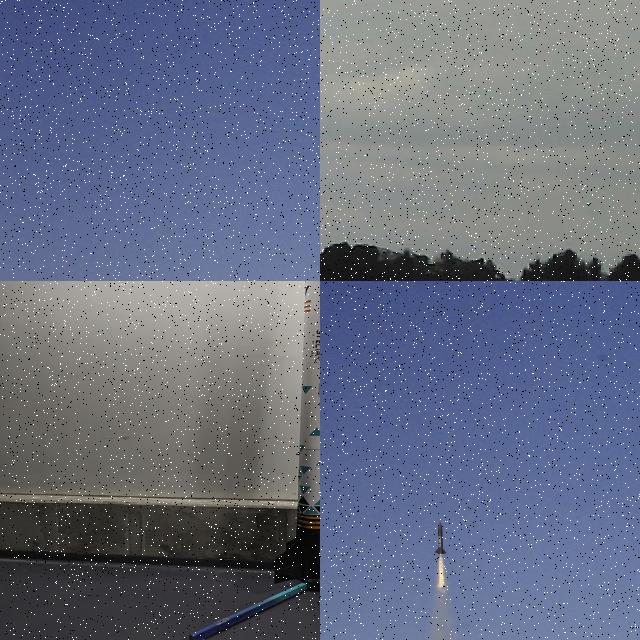Rocket: (274, 281, 320, 584), (435, 521, 447, 555)
